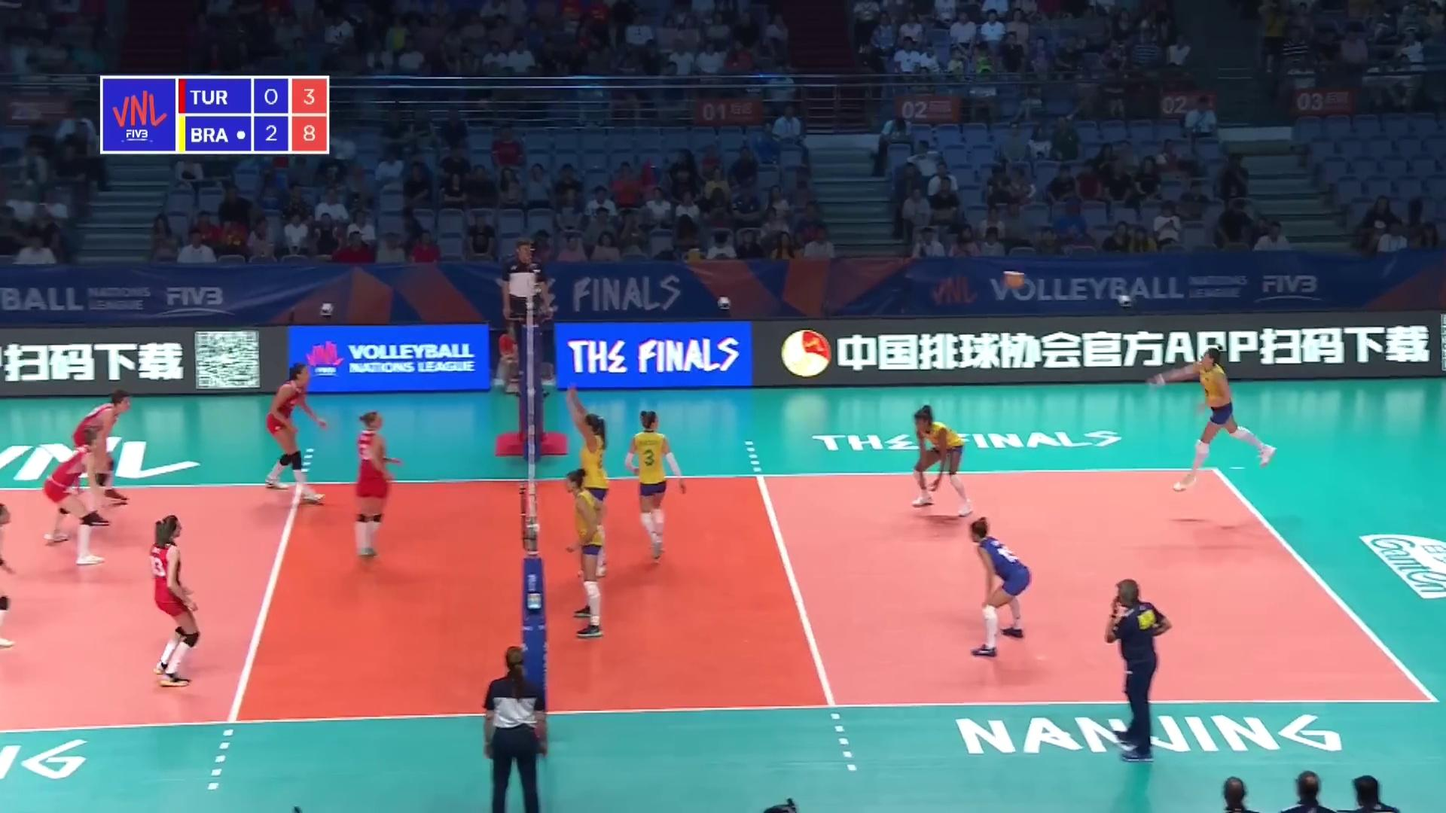player: (1155, 353, 1278, 484), (139, 518, 206, 692), (619, 412, 685, 570), (564, 463, 622, 639), (43, 428, 112, 566), (266, 368, 332, 503), (971, 517, 1033, 656), (350, 412, 405, 559), (72, 393, 137, 504), (908, 406, 972, 517), (573, 402, 614, 574), (0, 500, 23, 649)
refree: (474, 650, 546, 813), (500, 237, 550, 384)
